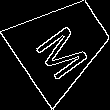M_NE: (30, 12, 94, 78)
